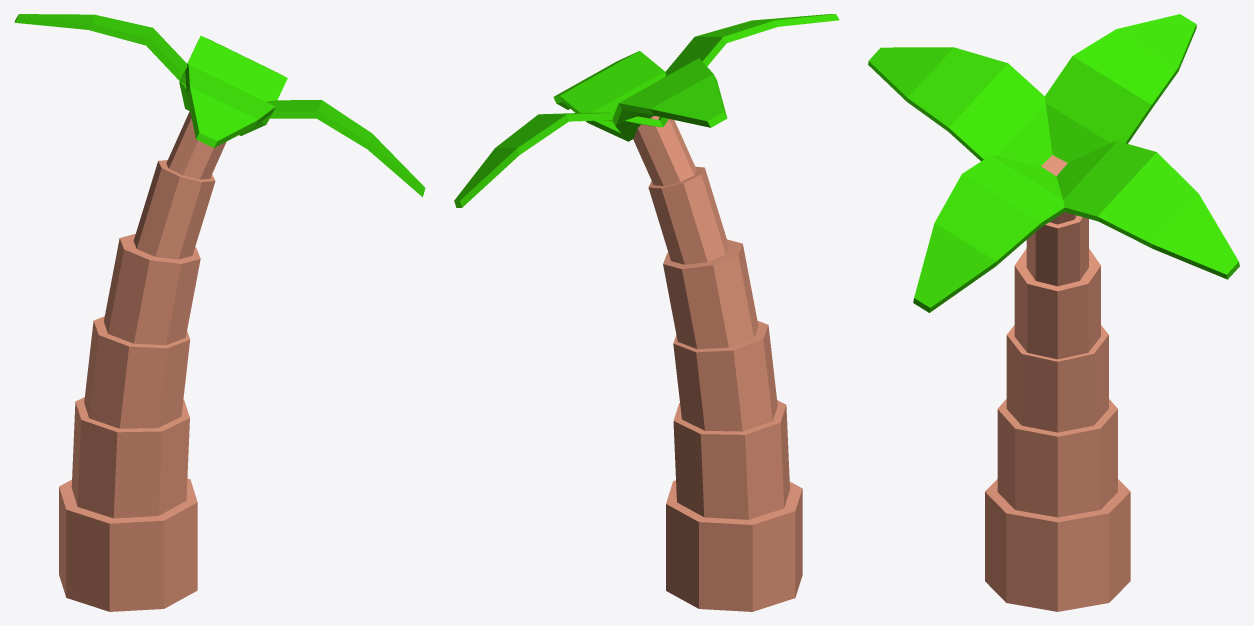
Rendered from palma3.fbx.
The picture shows the model from 3 angles, left to right: view 1: azimuth 30°, elevation 25°; view 2: azimuth 150°, elevation 25°; view 3: azimuth 270°, elevation 25°; orthographic projection. The views are drawn at different scales.
Parts seen in each view (by area): view 1: Cylinder.070; view 2: Cylinder.070; view 3: Cylinder.070.
Part boxes in pixels (bbox=[...]): Cylinder.070: bbox=[14, 14, 425, 611]; Cylinder.070: bbox=[454, 14, 839, 611]; Cylinder.070: bbox=[868, 14, 1239, 611].
Size of the model in its own units: 540 by 939 by 578.
